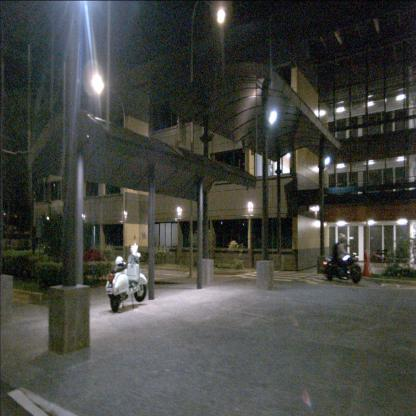movable_object-barrier: (361, 250, 373, 277)
vehicle-car: (74, 248, 105, 270), (35, 243, 50, 256)
vehicle-motorcycle: (105, 235, 148, 312), (323, 239, 362, 284)
